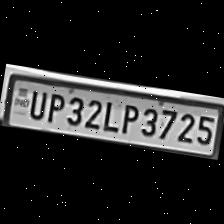2: (82, 94, 106, 132), (172, 109, 197, 145)
3: (61, 92, 85, 128), (136, 103, 160, 139)
5: (191, 110, 216, 146)
7: (155, 106, 177, 141)
L: (100, 98, 121, 134)
P: (42, 89, 66, 125), (116, 100, 140, 136)
U: (24, 86, 48, 122)
